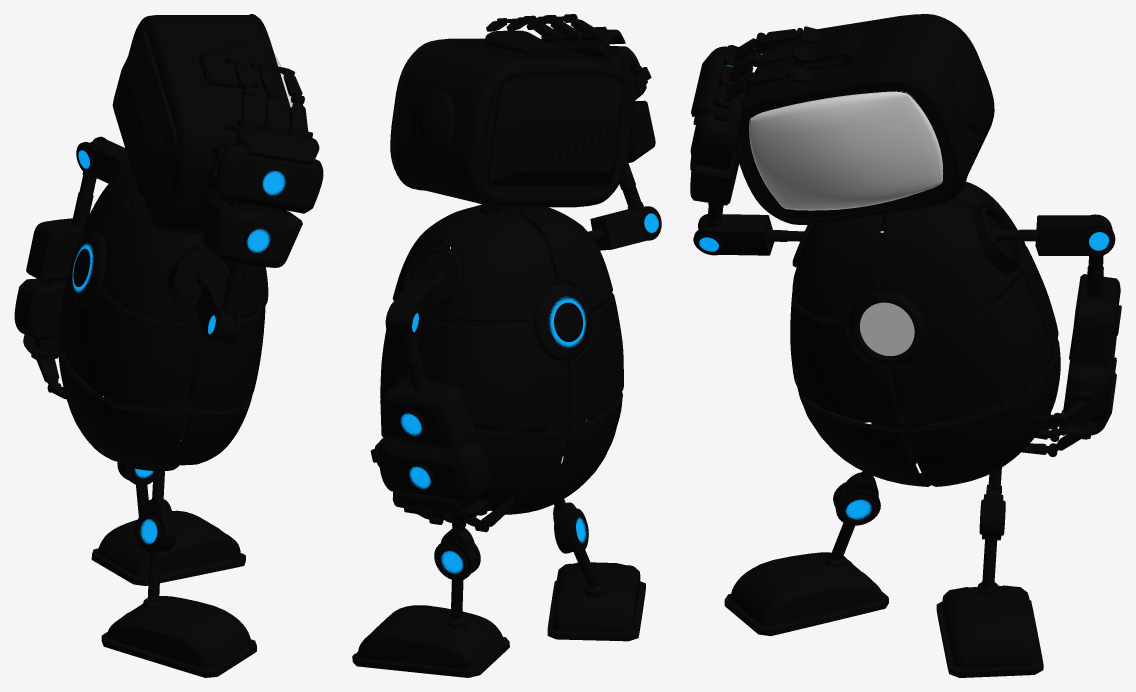
Rendered from max sketchfab.fbx.
The picture shows the model from 3 angles, left to right: view 1: azimuth 30°, elevation 25°; view 2: azimuth 150°, elevation 25°; view 3: azimuth 270°, elevation 25°; orthographic projection. The views are drawn at different scales.
Visible parts, largest first — view 1: bodyMid, headchassis, bodyTop, bodyBottom, foot_R, headBack, foot_L, palm2_R, palm1_R, palm1_L, palm2_L, shoulder_R (+14 smaller); view 2: headchassis, bodyMid, bodyTop, headBack, bodyBottom, foot_L, foot_R, palm2_L, palm1_L, backDisk, ear_L, elbow_L (+16 smaller); view 3: bodyMid, headchassis, bodyTop, screenFace, bodyBottom, foot_R, foot_L, chestScreen, palm1_L, elbow_L, elbow_R, palm2_R (+11 smaller).
Boxes of the visible parts, box(x1,y1,x2,y2) form: bodyMid: box(59, 206, 265, 407); headchassis: box(128, 14, 290, 233); bodyTop: box(83, 167, 265, 321); bodyBottom: box(58, 282, 252, 465); foot_R: box(101, 596, 256, 677); headBack: box(112, 30, 177, 215); foot_L: box(91, 510, 245, 585); palm2_R: box(207, 141, 323, 213); palm1_R: box(204, 198, 302, 267); palm1_L: box(26, 218, 84, 281); palm2_L: box(14, 278, 65, 339); shoulder_R: box(168, 249, 229, 309); headchassis: box(390, 38, 634, 207); bodyMid: box(380, 293, 623, 428); bodyTop: box(392, 204, 612, 323); headBack: box(488, 81, 623, 185); bodyBottom: box(387, 392, 622, 514); foot_L: box(352, 605, 509, 677); foot_R: box(547, 562, 645, 641); palm2_L: box(378, 438, 491, 503); palm1_L: box(380, 378, 475, 448); backDisk: box(534, 284, 592, 360); ear_L: box(412, 88, 455, 155); elbow_L: box(386, 279, 435, 338); bodyMid: box(790, 232, 1058, 426); headchassis: box(734, 14, 994, 224); bodyTop: box(792, 181, 1025, 322); screenFace: box(749, 91, 943, 210); bodyBottom: box(797, 338, 1060, 486); foot_R: box(724, 552, 888, 636); foot_L: box(936, 585, 1043, 677); chestScreen: box(850, 289, 927, 365); palm1_L: box(1069, 274, 1120, 366); elbow_L: box(1035, 214, 1115, 256); elbow_R: box(693, 214, 774, 255); palm2_R: box(690, 67, 753, 171).
Bounding box in the file's own units: 8.93 × 24.95 × 16.03.
